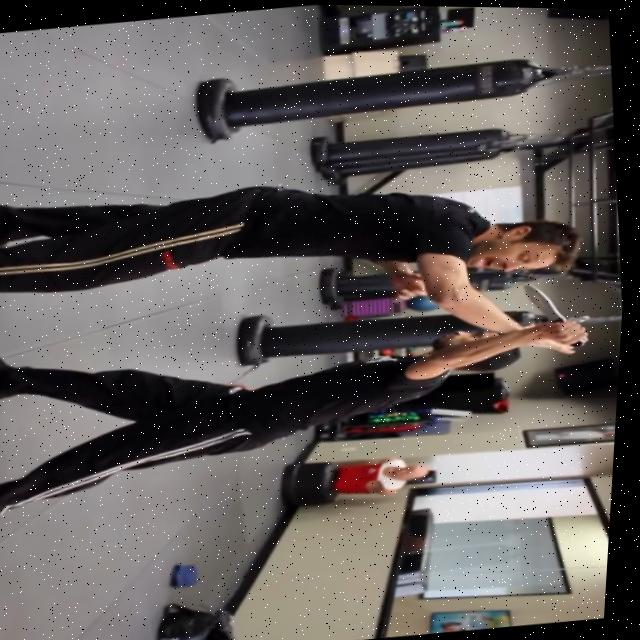knife: (522, 277, 568, 320)
